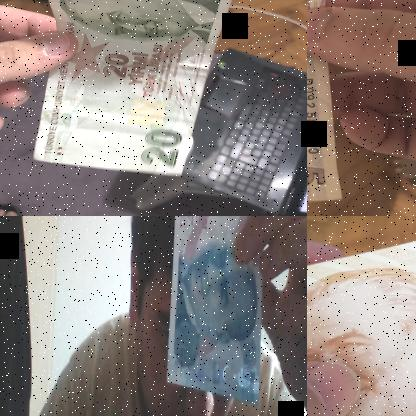5 TL: (31, 0, 244, 178)
